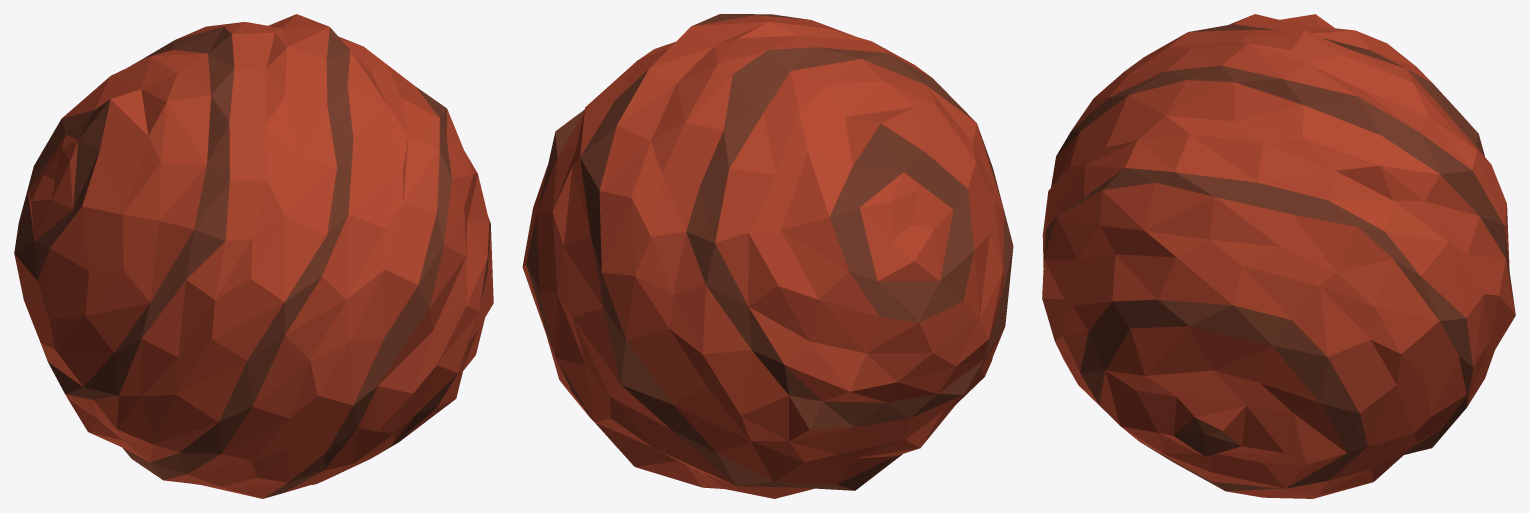
The model's file is venus.obj.
The picture shows the model from 3 angles, left to right: view 1: azimuth 30°, elevation 25°; view 2: azimuth 150°, elevation 25°; view 3: azimuth 270°, elevation 25°; orthographic projection.
Size of the model in its own units: 1.81 by 1.84 by 1.78.
